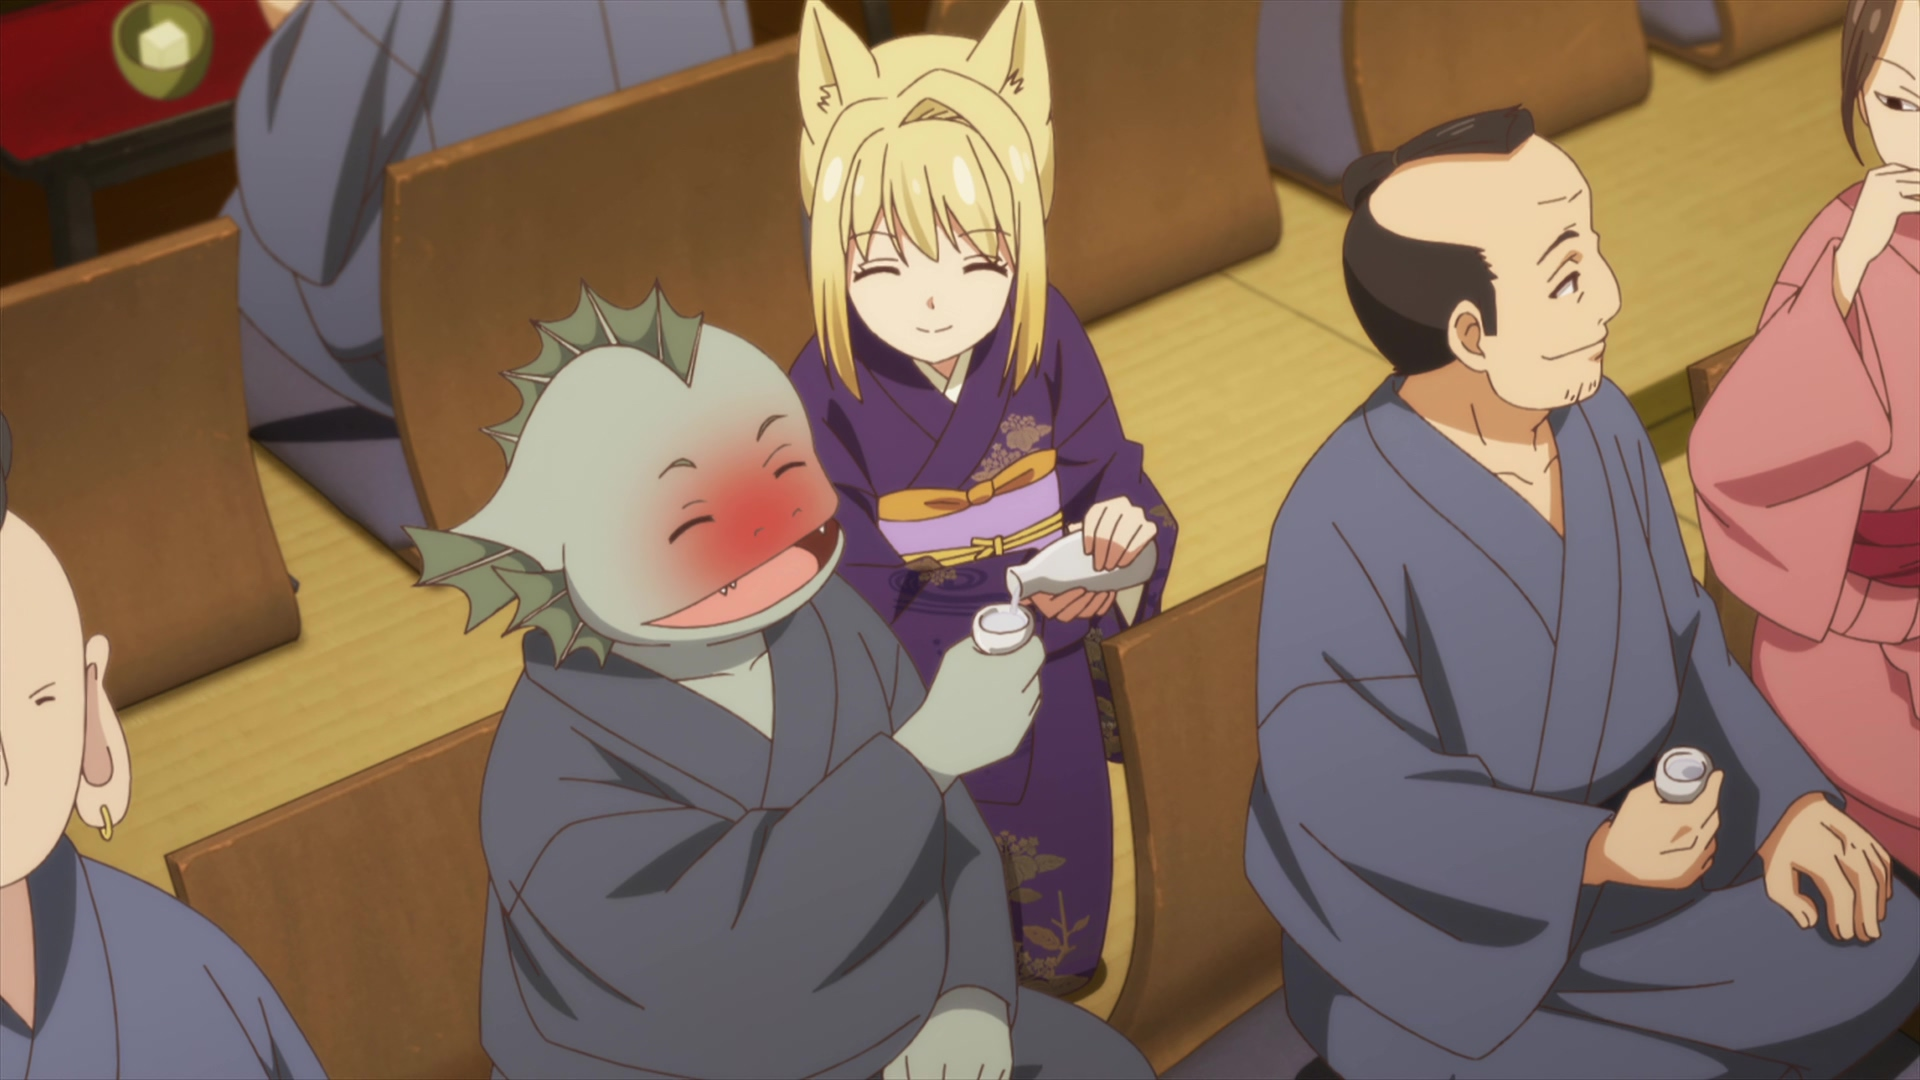其他: (1245, 109, 1920, 1080), (406, 284, 1153, 1080), (1, 419, 328, 1080), (233, 1, 754, 415), (1685, 1, 1920, 868)
桐: (785, 1, 1185, 998)
